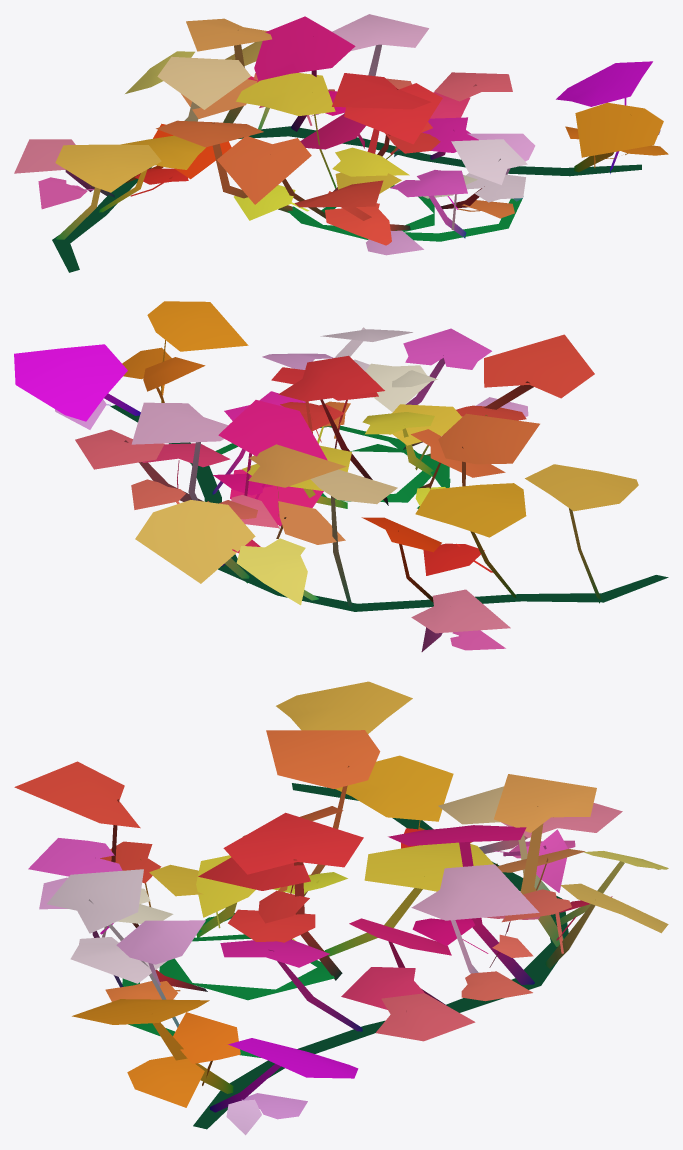
File: English_Ivy_xfcnebhqx_Mid_xfcnebhqx_VarF_LOD1.fbx
The picture shows the model from 3 angles, top to bottom: view 1: azimuth 30°, elevation 25°; view 2: azimuth 150°, elevation 25°; view 3: azimuth 270°, elevation 25°; orthographic projection. The views are drawn at different scales.
Parts seen in each view (by area): view 1: _lr3n_VarF_LOD3; view 2: _lr3n_VarF_LOD3; view 3: _lr3n_VarF_LOD3.
Boxes of the visible parts, <box> form: _lr3n_VarF_LOD3: <box>14,14,668,272</box>; _lr3n_VarF_LOD3: <box>14,301,668,651</box>; _lr3n_VarF_LOD3: <box>14,681,668,1135</box>.
Bounding box in the file's own units: 59.9 × 13.41 × 43.84.
